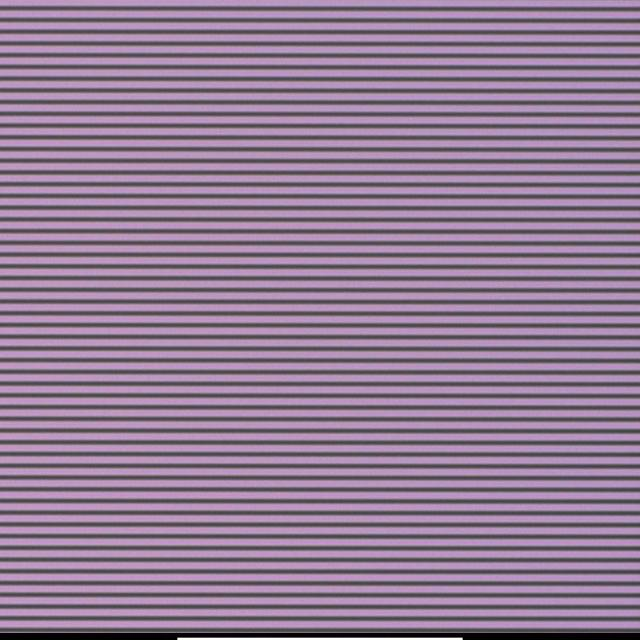nonvisual: (343, 290, 352, 298)
